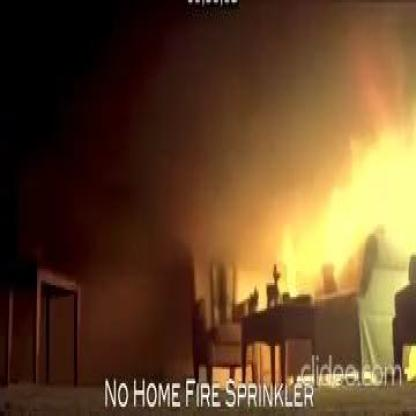fire: (236, 110, 415, 299)
